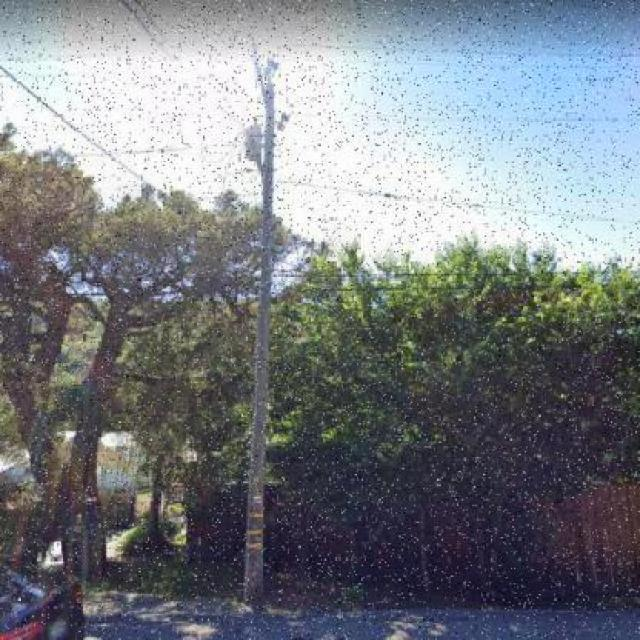pole: (243, 58, 278, 605)
transformer: (245, 120, 265, 165)
wire: (0, 66, 142, 175), (322, 271, 615, 295), (625, 277, 640, 298)
